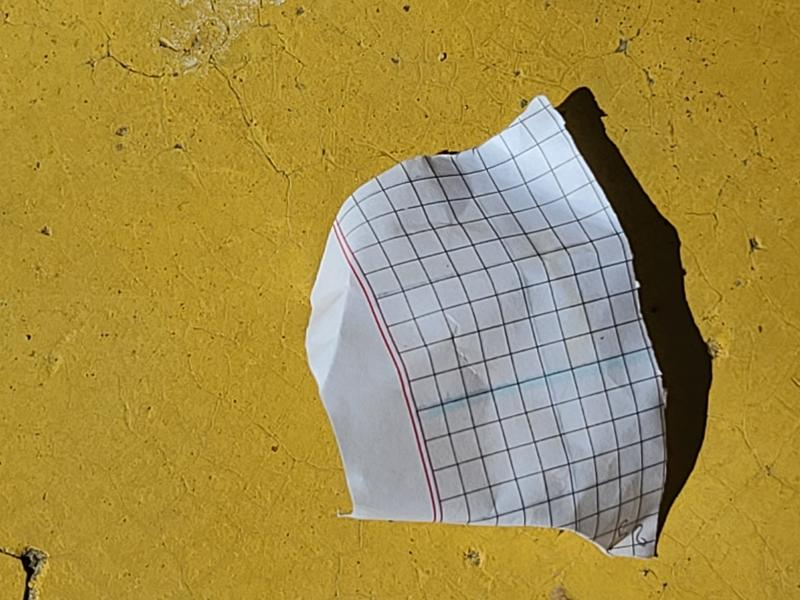papel: (303, 91, 669, 560)
